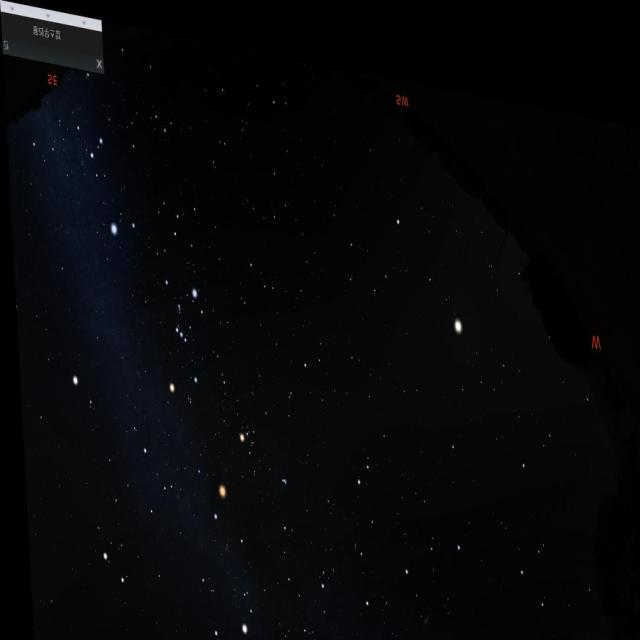canis_major: (85, 120, 144, 244)
canis_minor: (61, 358, 96, 413)
gemini: (85, 443, 175, 608)
orion: (148, 258, 203, 398)
pleiades: (274, 465, 288, 483)
taurus: (227, 388, 297, 513)
